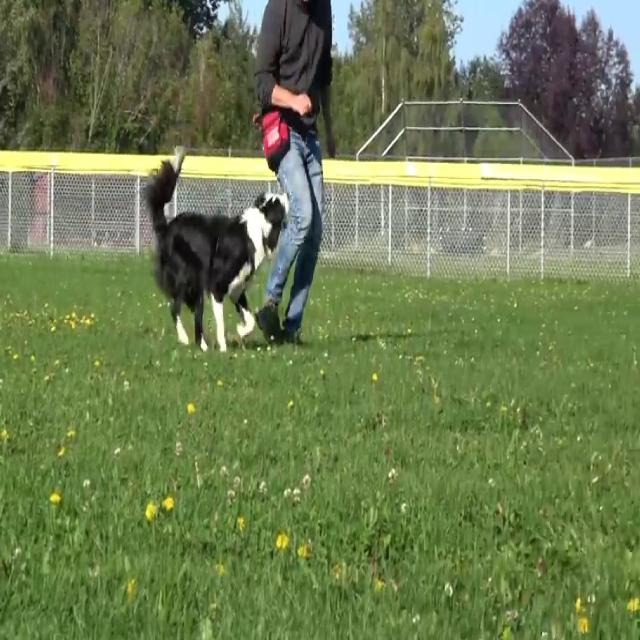Unleashed_Dog: (143, 138, 303, 354)
